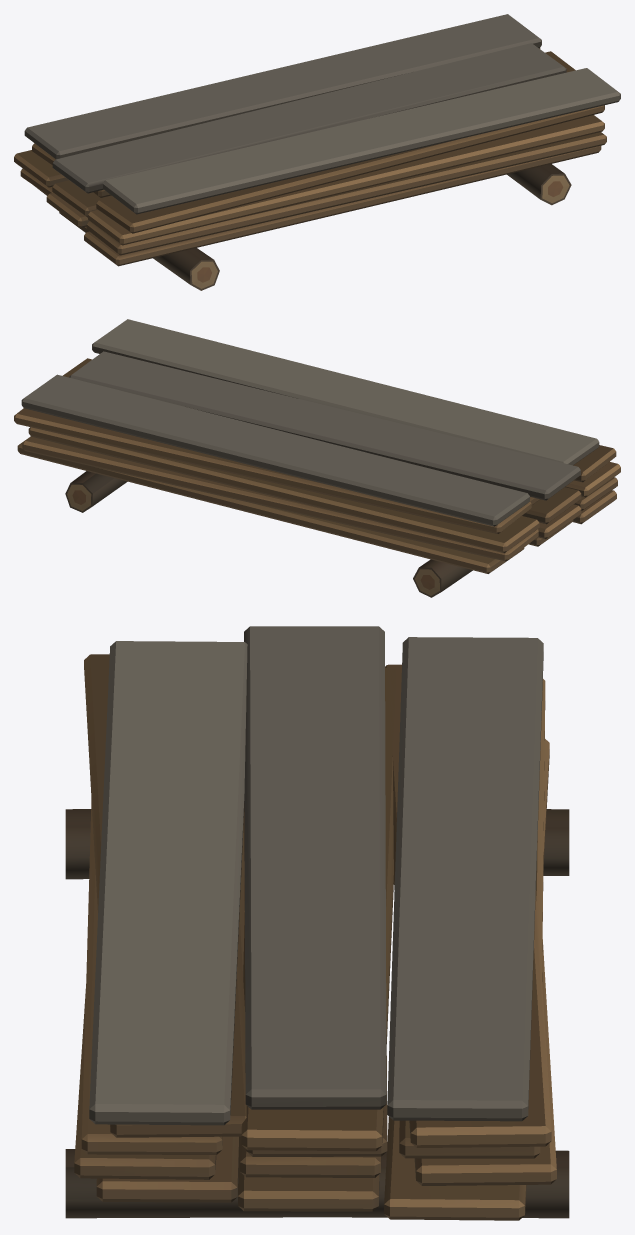
The model's file is boards.glb.
3 views of the same model, one above another, from view 1: azimuth 30°, elevation 25°; view 2: azimuth 150°, elevation 25°; view 3: azimuth 270°, elevation 25° (orthographic). The views are drawn at different scales.
Visible parts, largest first — view 1: plank-001, log-001; view 2: plank-001, log-001; view 3: plank-001, log-001.
Part boxes in pixels (left/top/right/bottom): plank-001: left=14, top=14, right=620, bottom=266; log-001: left=153, top=164, right=571, bottom=290; plank-001: left=14, top=319, right=620, bottom=573; log-001: left=65, top=471, right=472, bottom=597; plank-001: left=74, top=626, right=556, bottom=1220; log-001: left=65, top=809, right=569, bottom=1218.
Bounding box in the file's own units: 2.3 × 0.3964 × 1.
